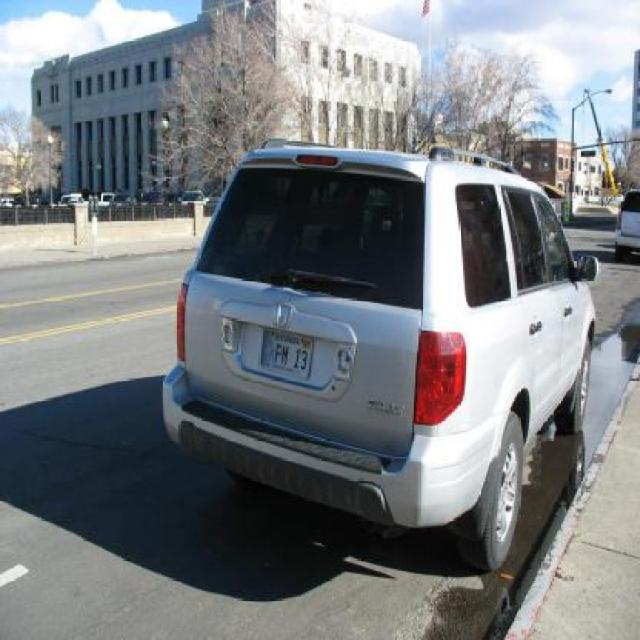License-Plates: (260, 328, 314, 380)
